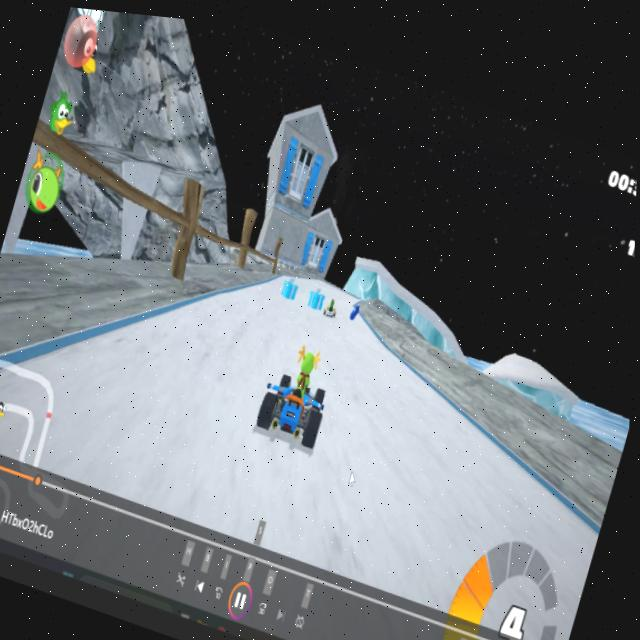bonus: (279, 262, 304, 296), (304, 273, 329, 307)
enemy_kart: (321, 290, 342, 316)
nitro: (349, 294, 363, 314)
player_kart: (251, 324, 342, 443)
